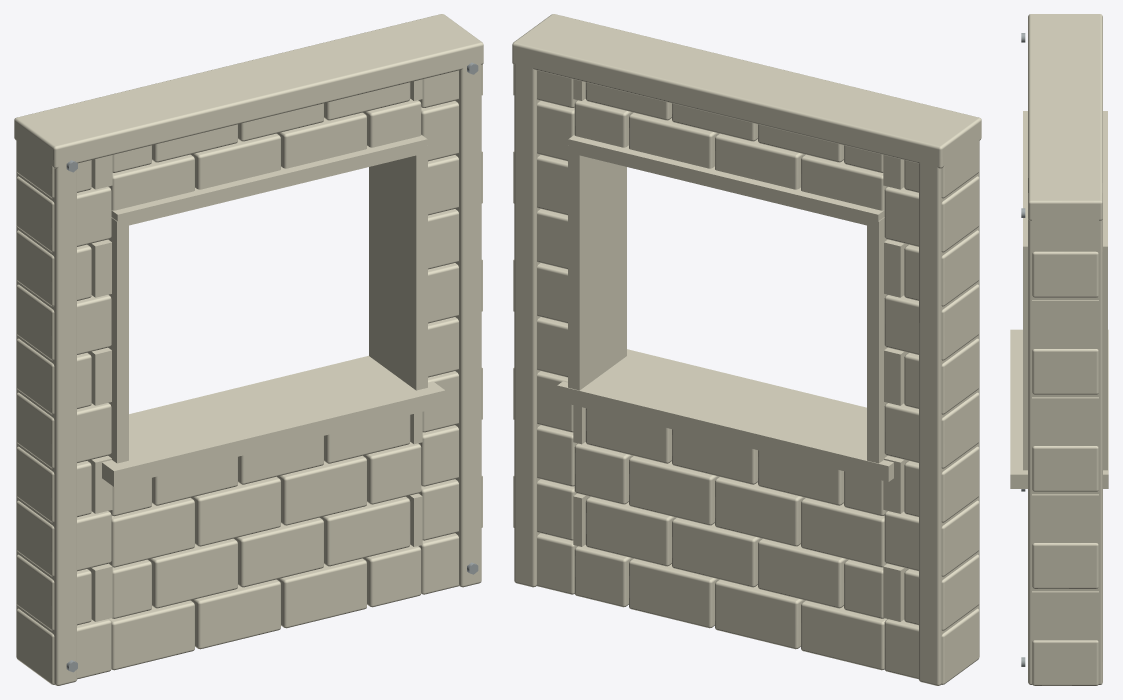
The model's file is bunker-shelter-construction-shelter-serving-wall-2e529cca__23291.glb.
3 views of the same model, side by side, from view 1: azimuth 30°, elevation 25°; view 2: azimuth 150°, elevation 25°; view 3: azimuth 270°, elevation 25° (orthographic). The views are drawn at different scales.
Visible parts, largest first — view 1: shelter-serving-wall; view 2: shelter-serving-wall; view 3: shelter-serving-wall.
Boxes of the visible parts, x1,y1,x2,y2 form: shelter-serving-wall: (14,14,483,685); shelter-serving-wall: (512,14,981,685); shelter-serving-wall: (1010,14,1108,685).
Size of the model in its own units: 2 by 2.4 by 0.4401.
